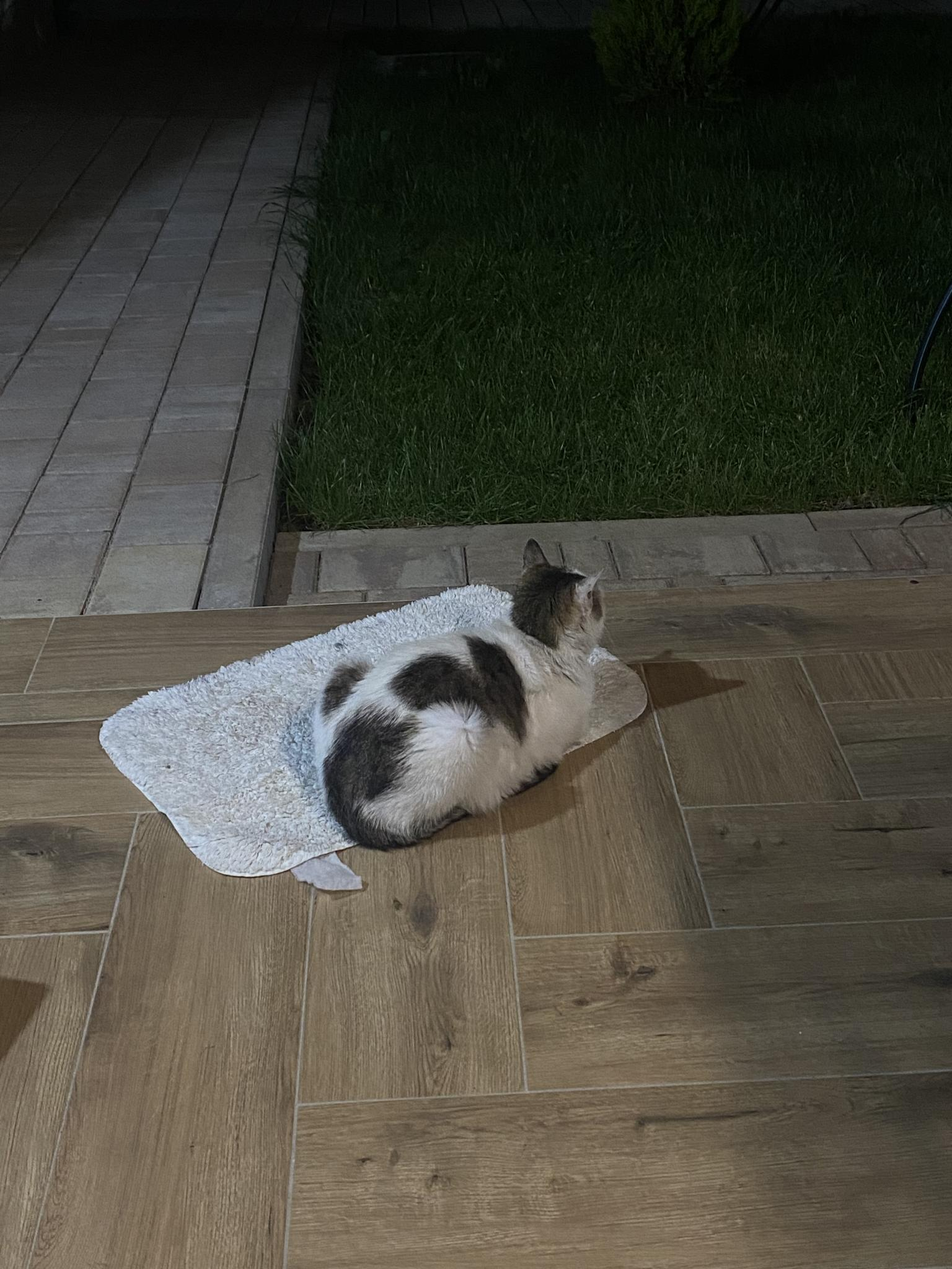macka: (315, 537, 608, 851)
